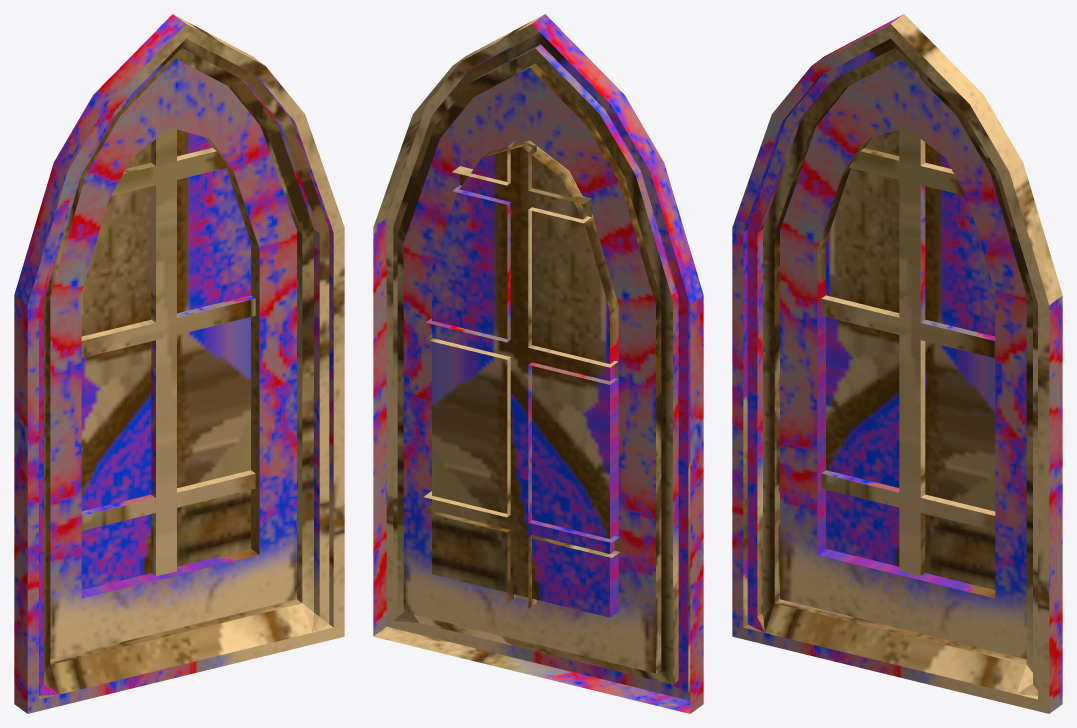
File: SM_Ventana1.fbx
3 renders of one model, left to right at view 1: azimuth 30°, elevation 25°; view 2: azimuth 150°, elevation 25°; view 3: azimuth 330°, elevation 25°, orthographic.
Visible parts, largest first — view 1: SM_Ventana1; view 2: SM_Ventana1; view 3: SM_Ventana1.
Part boxes in pixels (x1=…): SM_Ventana1: x1=14, y1=14, x2=344, y2=713; SM_Ventana1: x1=373, y1=14, x2=703, y2=713; SM_Ventana1: x1=732, y1=14, x2=1062, y2=713.
Bounding box in the file's own units: 102 × 200 × 15.49.
